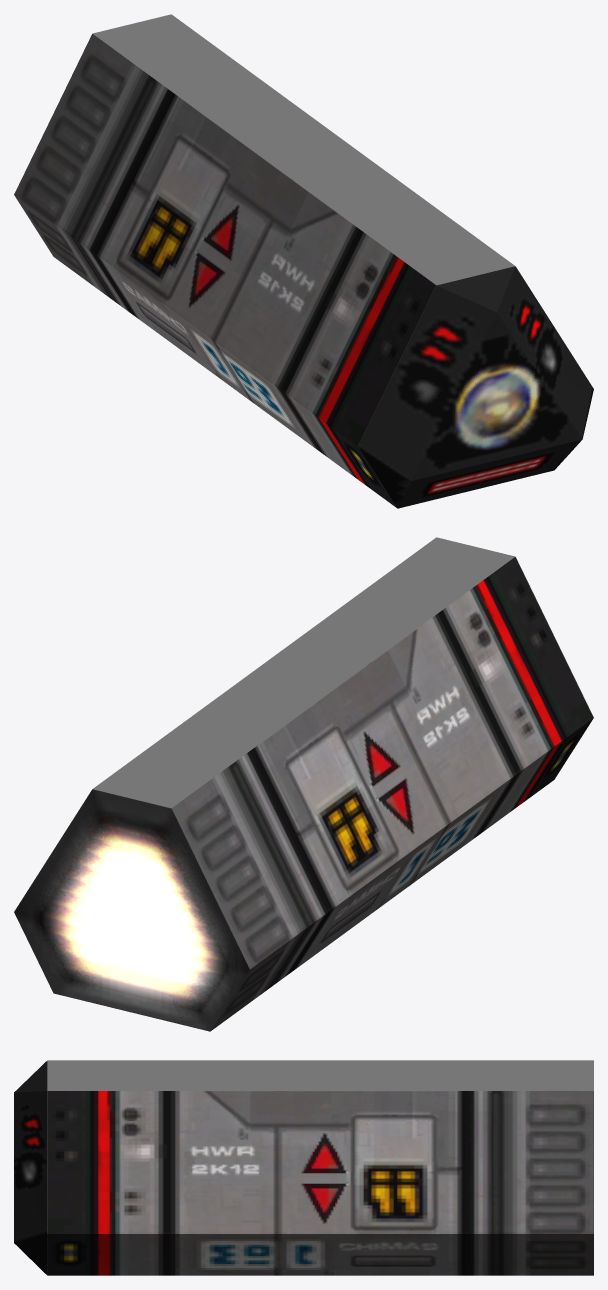
The model's file is flakshell.dae.
3 renders of one model, top to bottom at view 1: azimuth 30°, elevation 25°; view 2: azimuth 150°, elevation 25°; view 3: azimuth 270°, elevation 25°, orthographic. The views are drawn at different scales.
Parts seen in each view (by area): view 1: MULT[Root_mesh]_LOD[0]; view 2: MULT[Root_mesh]_LOD[0]; view 3: MULT[Root_mesh]_LOD[0].
Boxes of the visible parts, box(x1,y1,x2,y2) form: MULT[Root_mesh]_LOD[0]: box(14, 14, 593, 508); MULT[Root_mesh]_LOD[0]: box(14, 537, 593, 1031); MULT[Root_mesh]_LOD[0]: box(14, 1060, 593, 1275).
Size of the model in its own units: 1.79 by 1.55 by 4.8.
Materials: 4 (3 with a texture image).
